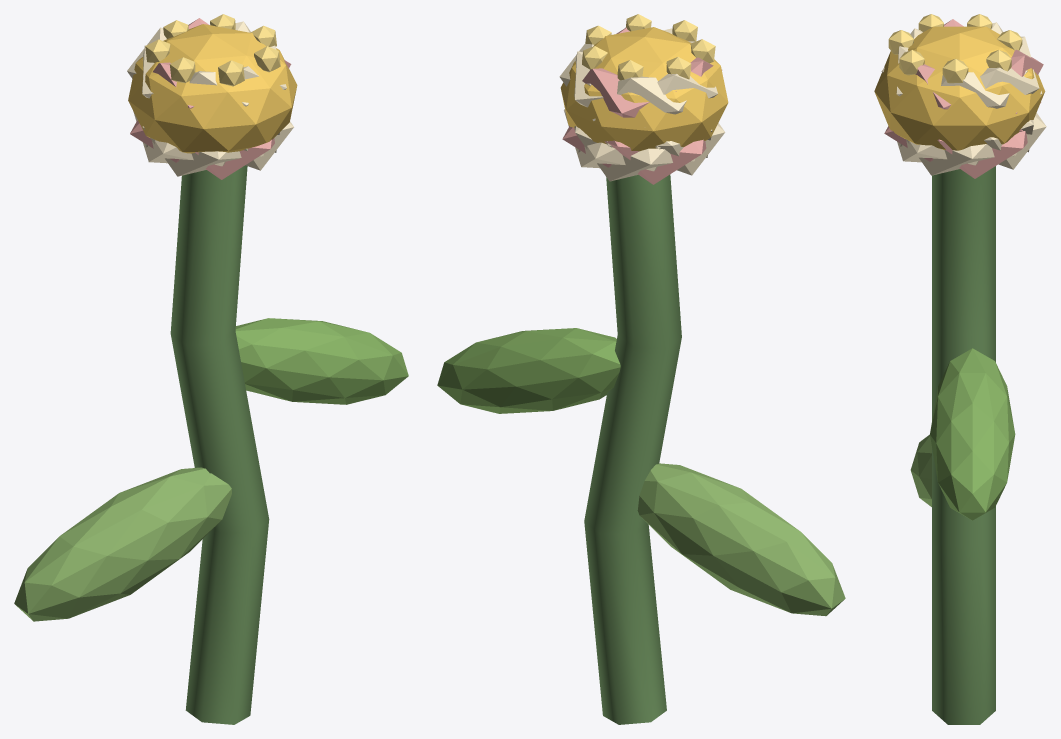
File: mdl_env_wildflower_landmark.glb
The picture shows the model from 3 angles, left to right: view 1: azimuth 30°, elevation 25°; view 2: azimuth 150°, elevation 25°; view 3: azimuth 270°, elevation 25°; orthographic projection.
Visible parts, largest first — view 1: Curved flower stalk, Leaf L, Flower seed head, Leaf R, Flower outer petal.008, Flower outer petal, Flower outer petal.001, Flower outer petal.007; view 2: Curved flower stalk, Leaf L, Leaf R, Flower seed head, Flower outer petal.005, Flower outer petal, Flower outer petal.006, Flower outer petal.001, Flower outer petal.007, Flower outer petal.004, Flower outer petal.002, Flower outer petal.008; view 3: Curved flower stalk, Flower seed head, Leaf R, Flower outer petal.002, Flower outer petal.003, Leaf L, Flower outer petal.008, Flower outer petal.001, Flower outer petal.004, Flower outer petal.007, Flower outer petal, Pollen grain (+6 smaller).
Part boxes in pixels (x1,y1,x2,y2): Curved flower stalk: [170, 165, 269, 724]; Leaf L: [14, 467, 231, 621]; Flower seed head: [128, 24, 297, 153]; Leaf R: [235, 318, 408, 404]; Flower outer petal.008: [142, 21, 263, 176]; Flower outer petal: [142, 18, 274, 179]; Flower outer petal.001: [127, 27, 293, 170]; Flower outer petal.007: [133, 45, 276, 166]; Curved flower stalk: [584, 174, 681, 724]; Leaf L: [637, 463, 845, 616]; Leaf R: [437, 328, 620, 413]; Flower seed head: [560, 27, 728, 151]; Flower outer petal.005: [574, 28, 694, 181]; Flower outer petal: [565, 68, 676, 117]; Flower outer petal.006: [604, 27, 706, 184]; Flower outer petal.001: [592, 76, 686, 120]; Flower outer petal.007: [559, 43, 725, 175]; Flower outer petal.004: [564, 41, 694, 171]; Flower outer petal.002: [577, 73, 717, 152]; Flower outer petal.008: [574, 51, 712, 157]; Curved flower stalk: [932, 166, 995, 724]; Flower seed head: [874, 26, 1045, 150]; Leaf R: [930, 348, 1015, 520]; Flower outer petal.002: [906, 22, 1016, 175]; Flower outer petal.003: [937, 19, 1027, 178]; Leaf L: [910, 434, 931, 506]; Flower outer petal.008: [899, 67, 1039, 146]; Flower outer petal.001: [897, 36, 1042, 165]; Flower outer petal.004: [881, 28, 1046, 169]; Flower outer petal.007: [941, 70, 1027, 108]; Flower outer petal: [884, 49, 1043, 161]; Pollen grain: [942, 58, 968, 83].
Size of the model in its own units: 1.04 by 1.75 by 0.4034.
